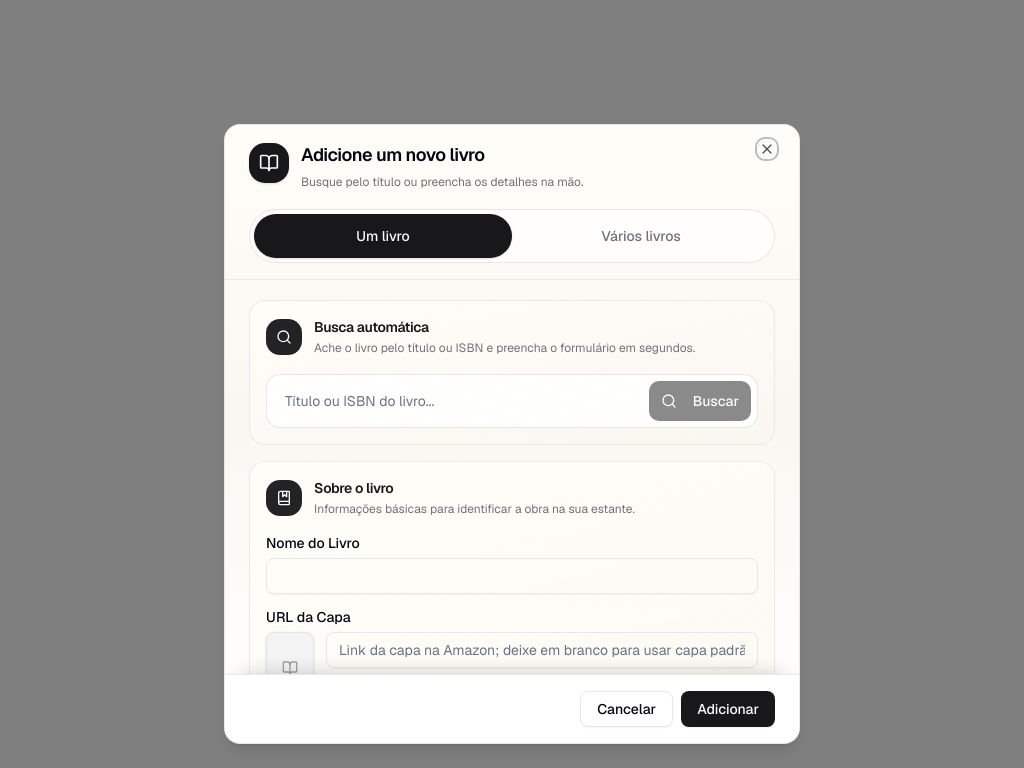
Test: entrada de vários livros › troca o formulário de um livro pelo painel sem fechar o modal
Expected: the dialog "Adicione um novo livro" is shown, [224,124,800,744]
Expected: the heading "Busca automática" is shown, [314,318,429,336]
What coordinates should you click on to do the following:
click the button "Vários livros"
I would click on:
 (641, 236)
Its box is [512,214,770,258].
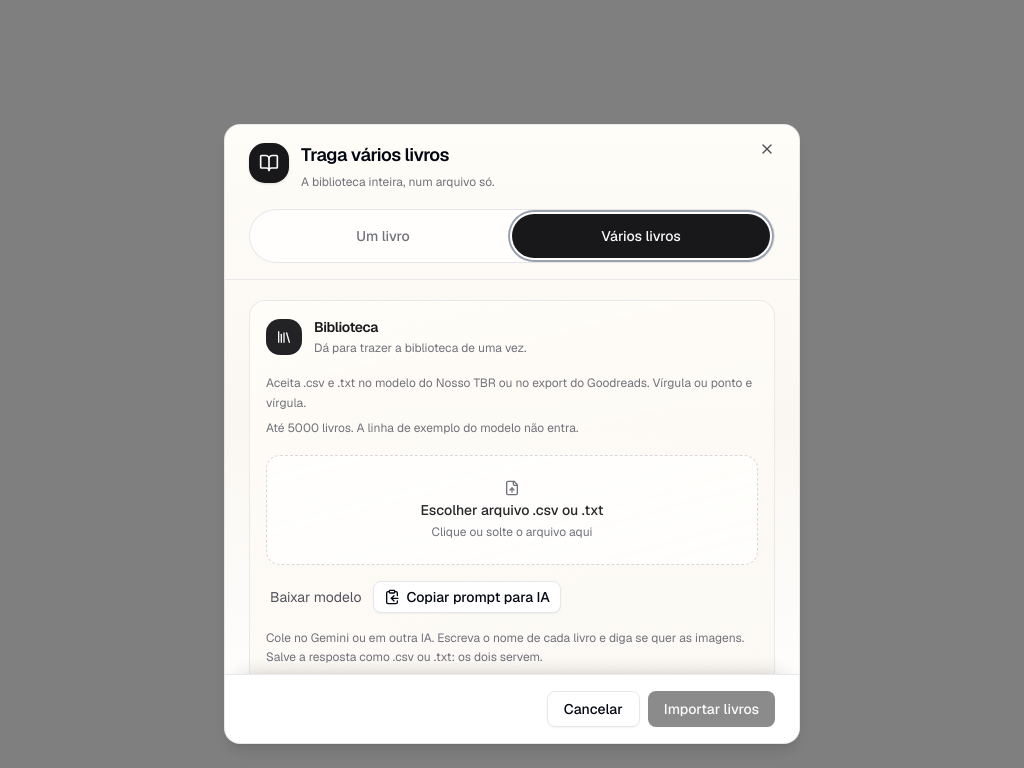
Now the dialog "Traga vários livros" is shown, box [224,124,800,744]
Now the heading "Busca automática" is gone
Now the button "Importar livros" is disabled, box [648,691,775,727]
What coordinates should you click on to do the following:
click the button "Um livro"
I would click on:
 (383, 236)
Its box is [254,214,512,258].
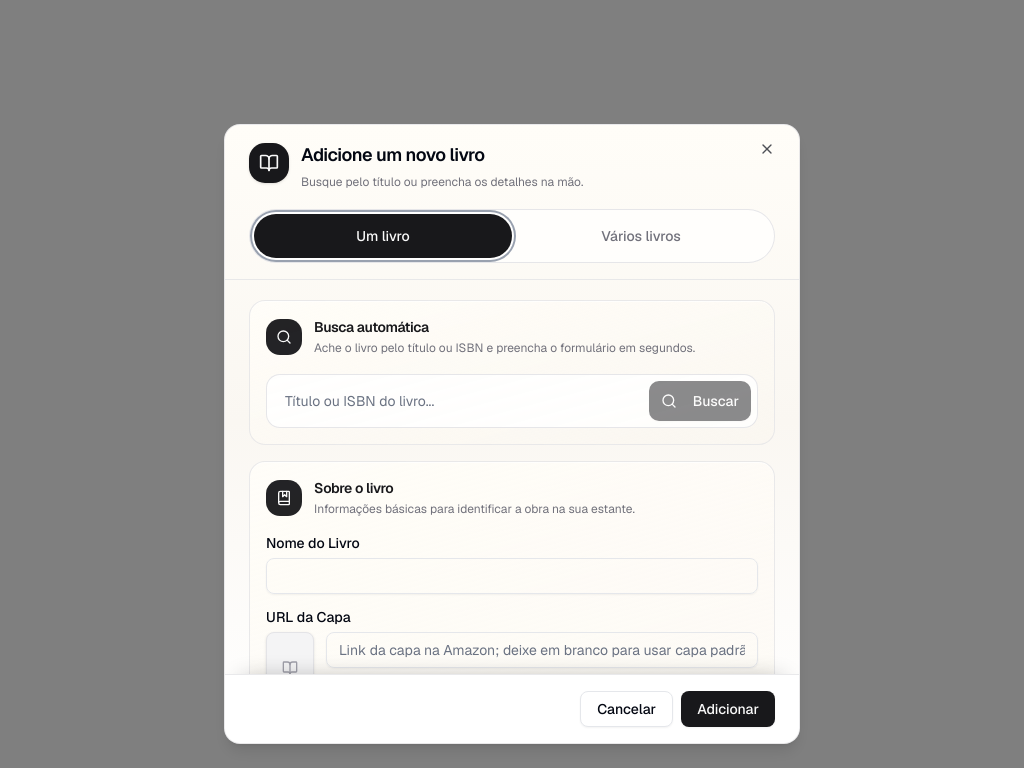
Now the dialog "Adicione um novo livro" is shown, box [224,124,800,744]
Now the heading "Busca automática" is shown, box [314,318,429,336]
Now the button "Adicionar" is shown, box [681,691,775,727]
